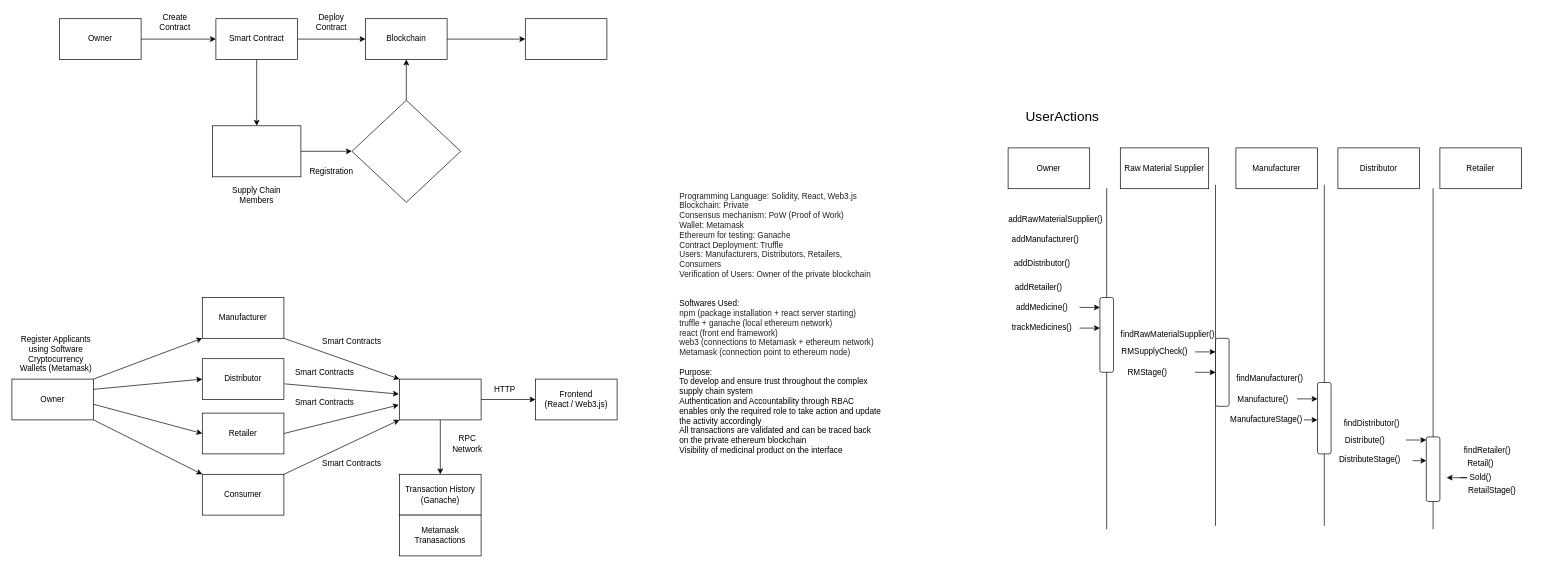
Image size: 1554x568. Some labels were removed from this diagram. The box of each missing label's shape, as (x1, y1, x2, y2) in pixels:
Owner registers supply chain members: (351, 100, 461, 202)
Raw Material Manufacturer Distributor Retailer: (212, 125, 301, 177)
Stages: (525, 18, 607, 60)
Transaction (Validated by appropriate applicant using testing ETH): (399, 378, 481, 420)
